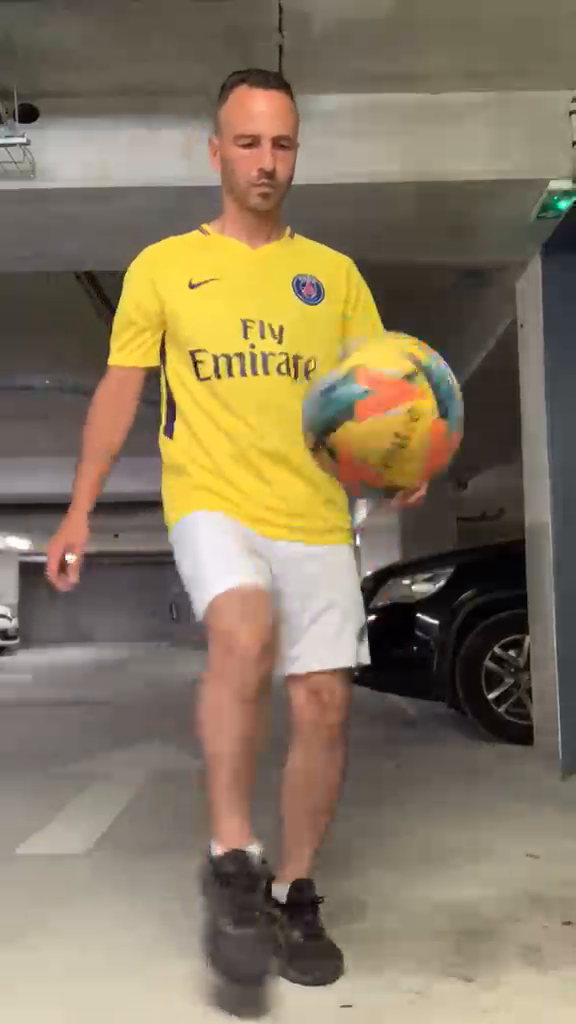ball: (298, 331, 464, 497)
